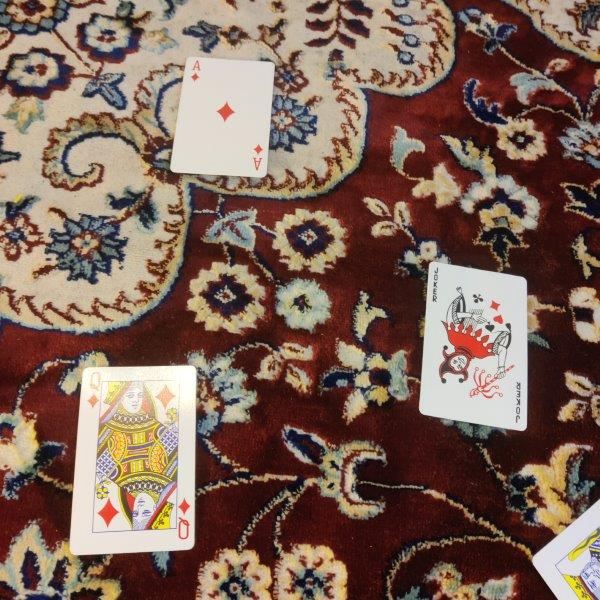Ace of Diamonds: (170, 56, 277, 177)
Joker: (417, 262, 528, 432)
Queen of Diamonds: (68, 363, 198, 555)
